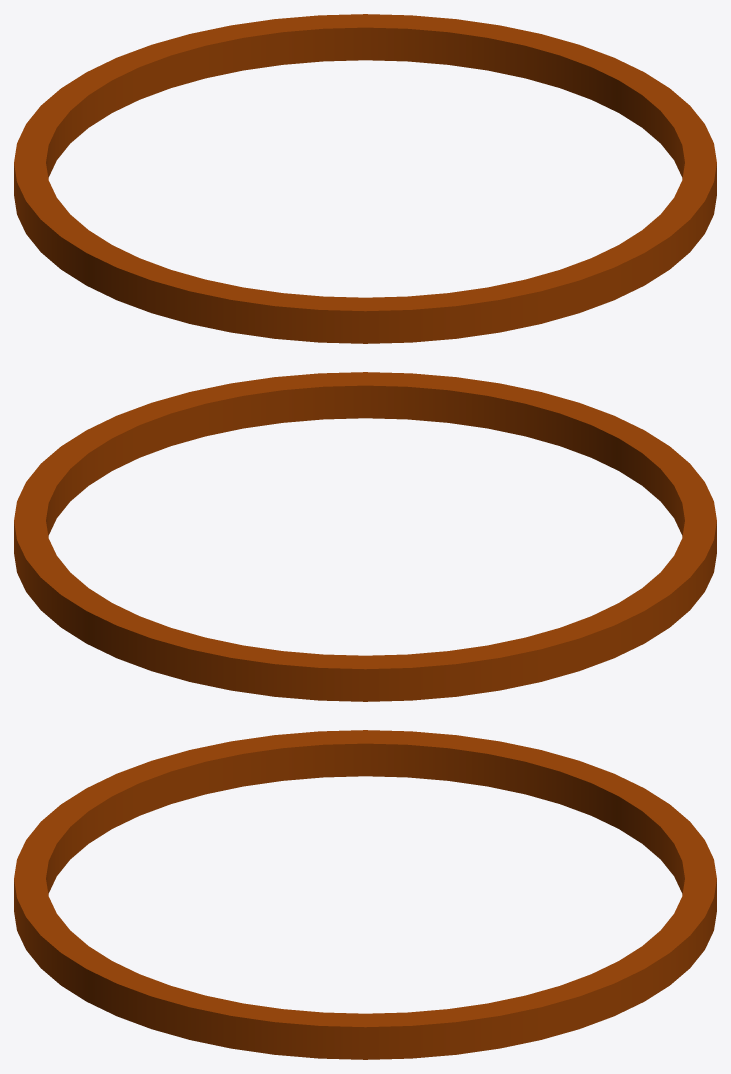
Rendered from CircleSmall.FBX.
The picture shows the model from 3 angles, top to bottom: view 1: azimuth 30°, elevation 25°; view 2: azimuth 150°, elevation 25°; view 3: azimuth 270°, elevation 25°; orthographic projection.
Visible parts, largest first — view 1: Tube009; view 2: Tube009; view 3: Tube009.
Part boxes in pixels (left/top/right/bottom): Tube009: left=14, top=14, right=716, bottom=343; Tube009: left=14, top=372, right=716, bottom=701; Tube009: left=14, top=730, right=716, bottom=1059.
Bounding box in the file's own units: 88 × 4.52 × 88.
